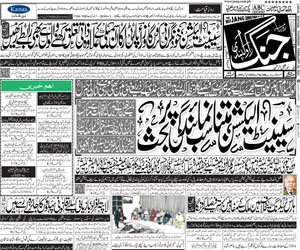news_paper: (1, 1, 300, 249), (9, 236, 10, 237)
